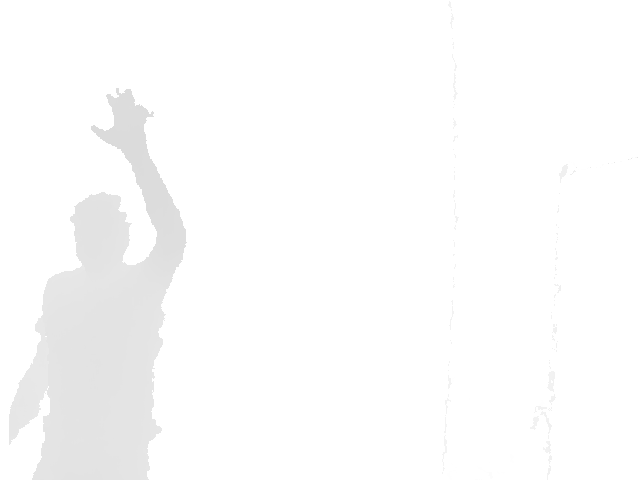hand: (90, 88, 151, 148)
head: (70, 192, 133, 271)
person: (8, 87, 188, 480)
